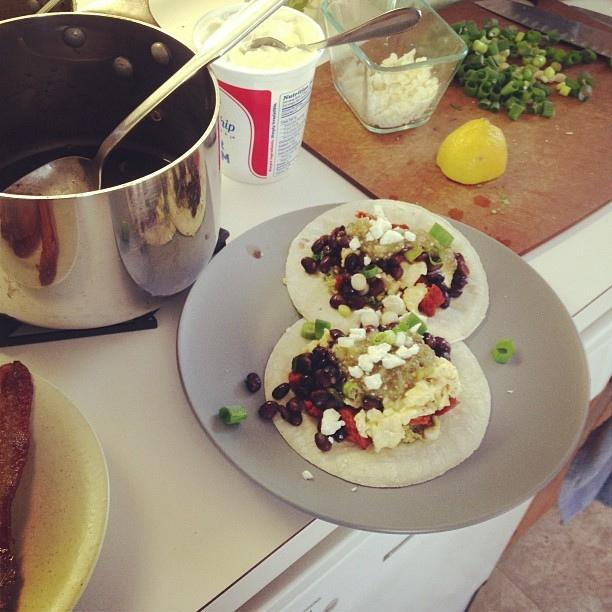green onion: (429, 222, 455, 249), (398, 311, 427, 335), (219, 404, 249, 425), (490, 338, 514, 364), (402, 241, 425, 262), (414, 44, 444, 59), (315, 318, 331, 340), (533, 82, 553, 98), (429, 245, 444, 266), (471, 69, 489, 86), (508, 103, 525, 120), (501, 80, 519, 96), (488, 83, 502, 103), (578, 84, 592, 103), (582, 47, 598, 63), (578, 70, 594, 86), (526, 30, 542, 46), (368, 331, 386, 345), (363, 262, 378, 278), (476, 82, 491, 98), (472, 39, 487, 55), (483, 17, 499, 32), (464, 79, 478, 96), (302, 322, 315, 340), (566, 52, 582, 66), (450, 21, 466, 35), (532, 55, 547, 69), (541, 101, 554, 117), (564, 76, 580, 89), (547, 31, 562, 44), (505, 96, 520, 109), (552, 54, 568, 66), (512, 66, 525, 80), (496, 38, 509, 52), (544, 46, 558, 59), (456, 63, 468, 78), (470, 54, 484, 66), (530, 86, 546, 96), (464, 39, 474, 55), (544, 67, 556, 80), (528, 102, 540, 114), (463, 69, 476, 80), (539, 34, 550, 47), (536, 74, 550, 84), (558, 86, 572, 96), (519, 47, 533, 57), (489, 44, 500, 56), (478, 99, 491, 109), (488, 28, 501, 38), (550, 62, 563, 72), (497, 62, 509, 72), (522, 90, 534, 100), (459, 34, 478, 40), (516, 41, 530, 49), (520, 98, 528, 112), (515, 32, 526, 42), (466, 21, 476, 32), (431, 24, 442, 34), (556, 80, 566, 90), (490, 101, 500, 111), (508, 25, 518, 35), (500, 96, 509, 107), (522, 56, 534, 64), (489, 70, 499, 79), (500, 49, 509, 58), (504, 69, 513, 78), (524, 70, 532, 80), (318, 250, 326, 260), (478, 30, 486, 38), (510, 64, 517, 72), (484, 61, 490, 68)
lemon: (436, 118, 508, 185)
